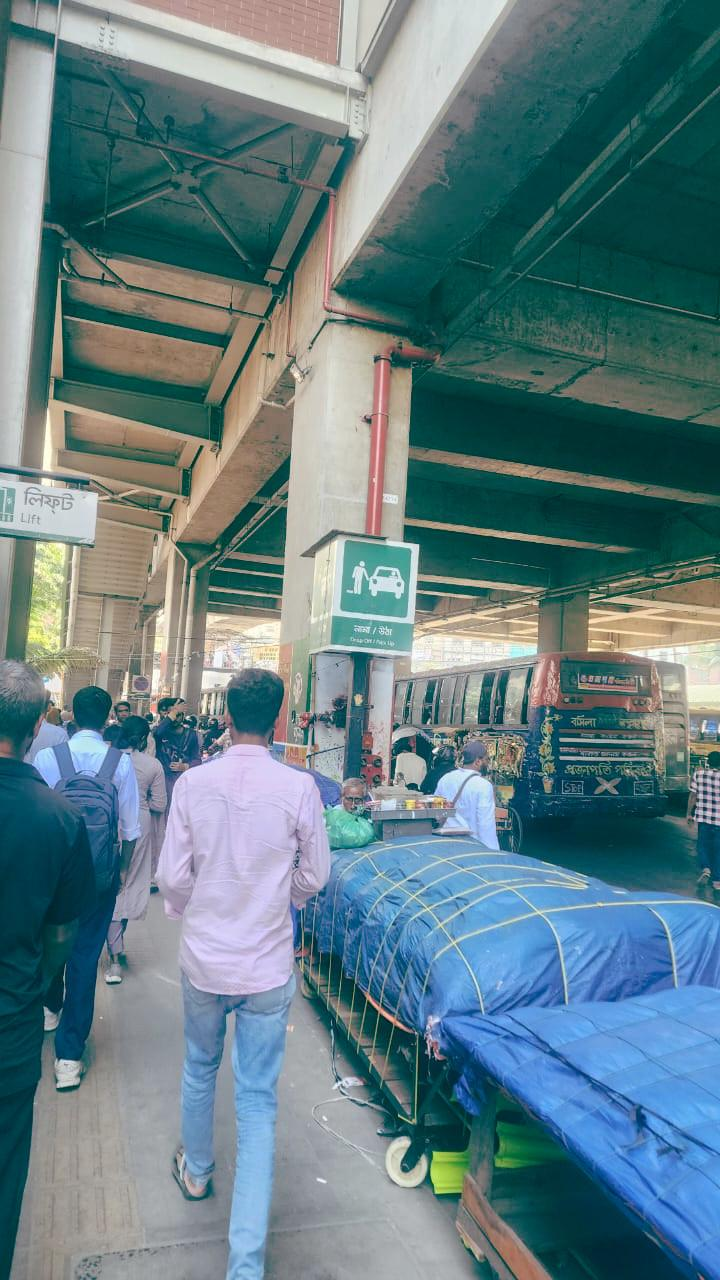Metro Dorp Up Pick up: (302, 530, 418, 645)
